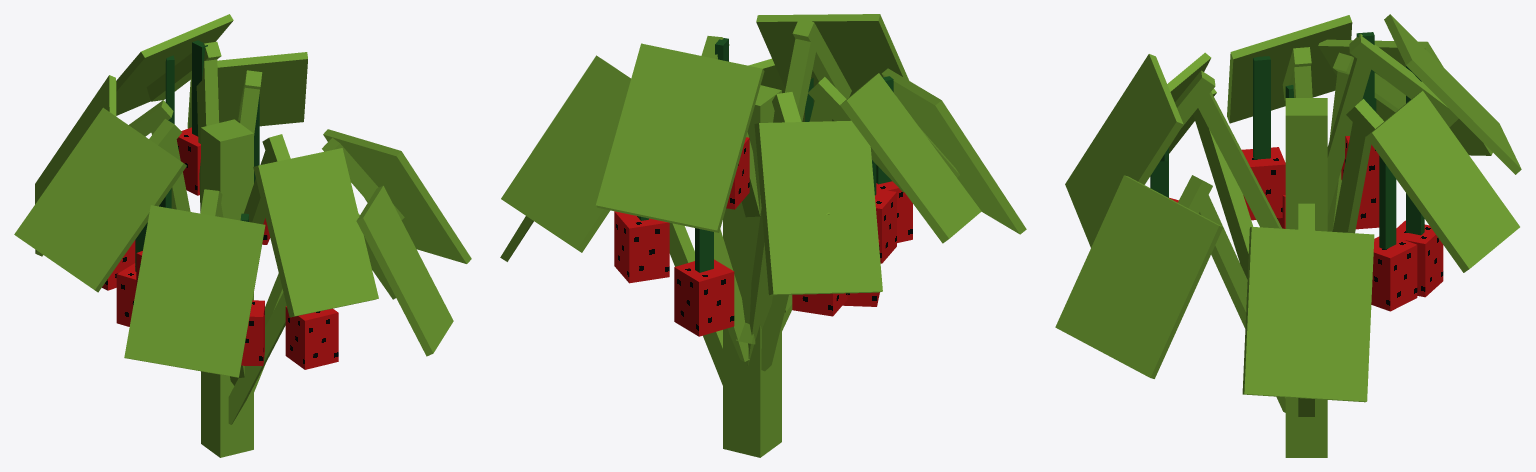
The model's file is strawberry.gltf.
3 renders of one model, left to right at view 1: azimuth 30°, elevation 25°; view 2: azimuth 150°, elevation 25°; view 3: azimuth 270°, elevation 25°, orthographic. The views are drawn at different scales.
Visible parts, largest first — view 1: 4eb561ee-e4ab-f76f-4e30-f11e09f7993e, 01a09829-e122-5b0a-20b8-aaecbee09f6f, 1283f4d3-97d6-82ff-80f4-b5056bac5149, 2f95a8cc-bbbc-db35-044c-f79740e91d66, 107a1ec4-873a-3dd9-ea2a-851498e77274, 7614471e-801d-6416-6c0a-157e09a08062, 6e3f350f-6a50-123f-cd92-09d51c40f884, e34a1770-09fc-274d-f716-8e8ee659045f, 59f5c063-296e-1b00-c2e3-74d31494afd2, 844b3f82-5d35-6af3-6514-d4ab7080cdb1, 47182c66-7792-879d-38dc-3051a974d201, bcb8a3a8-a71c-7ad1-5b28-aba474986b23 (+16 smaller); view 2: e34a1770-09fc-274d-f716-8e8ee659045f, 844b3f82-5d35-6af3-6514-d4ab7080cdb1, 6e3f350f-6a50-123f-cd92-09d51c40f884, 2f95a8cc-bbbc-db35-044c-f79740e91d66, 01a09829-e122-5b0a-20b8-aaecbee09f6f, 1283f4d3-97d6-82ff-80f4-b5056bac5149, 4eb561ee-e4ab-f76f-4e30-f11e09f7993e, ded39501-2ed6-5f5a-d195-4bb4b63243e9, c4523ee2-c674-16ea-1b8a-9a30603bd5ba, 2f9154d7-f499-ddac-d801-9aa744a33ea9, b368f5a6-8e91-1b1e-d029-e5eeac68e0c4, 2e053b5a-d234-0e95-985d-900e99bb19cc (+12 smaller); view 3: 7614471e-801d-6416-6c0a-157e09a08062, 107a1ec4-873a-3dd9-ea2a-851498e77274, 6e3f350f-6a50-123f-cd92-09d51c40f884, 1283f4d3-97d6-82ff-80f4-b5056bac5149, 2f95a8cc-bbbc-db35-044c-f79740e91d66, 01a09829-e122-5b0a-20b8-aaecbee09f6f, e34a1770-09fc-274d-f716-8e8ee659045f, b368f5a6-8e91-1b1e-d029-e5eeac68e0c4, c4523ee2-c674-16ea-1b8a-9a30603bd5ba, a3246267-8480-f19f-3fdd-6ae84c42bdb2, aafc843f-876d-b792-6ff0-667202e4fc5c, bcb8a3a8-a71c-7ad1-5b28-aba474986b23 (+20 smaller).
Part boxes in pixels (x1,y1,x2,y2): 4eb561ee-e4ab-f76f-4e30-f11e09f7993e: [124, 205, 265, 377]; 01a09829-e122-5b0a-20b8-aaecbee09f6f: [14, 107, 186, 292]; 1283f4d3-97d6-82ff-80f4-b5056bac5149: [253, 148, 378, 317]; 2f95a8cc-bbbc-db35-044c-f79740e91d66: [201, 119, 253, 457]; 107a1ec4-873a-3dd9-ea2a-851498e77274: [356, 185, 453, 356]; 7614471e-801d-6416-6c0a-157e09a08062: [323, 129, 471, 263]; 6e3f350f-6a50-123f-cd92-09d51c40f884: [187, 52, 307, 128]; e34a1770-09fc-274d-f716-8e8ee659045f: [116, 14, 233, 115]; 59f5c063-296e-1b00-c2e3-74d31494afd2: [285, 306, 338, 369]; 844b3f82-5d35-6af3-6514-d4ab7080cdb1: [35, 75, 116, 256]; 47182c66-7792-879d-38dc-3051a974d201: [228, 292, 286, 424]; bcb8a3a8-a71c-7ad1-5b28-aba474986b23: [196, 59, 219, 212]; e34a1770-09fc-274d-f716-8e8ee659045f: [596, 43, 764, 232]; 844b3f82-5d35-6af3-6514-d4ab7080cdb1: [754, 120, 882, 295]; 6e3f350f-6a50-123f-cd92-09d51c40f884: [501, 55, 630, 252]; 2f95a8cc-bbbc-db35-044c-f79740e91d66: [723, 85, 781, 457]; 01a09829-e122-5b0a-20b8-aaecbee09f6f: [840, 73, 981, 243]; 1283f4d3-97d6-82ff-80f4-b5056bac5149: [756, 14, 908, 121]; 4eb561ee-e4ab-f76f-4e30-f11e09f7993e: [881, 68, 1026, 234]; ded39501-2ed6-5f5a-d195-4bb4b63243e9: [674, 259, 734, 336]; c4523ee2-c674-16ea-1b8a-9a30603bd5ba: [614, 211, 669, 283]; 2f9154d7-f499-ddac-d801-9aa744a33ea9: [747, 110, 780, 366]; b368f5a6-8e91-1b1e-d029-e5eeac68e0c4: [736, 38, 818, 344]; 2e053b5a-d234-0e95-985d-900e99bb19cc: [792, 19, 851, 98]; 7614471e-801d-6416-6c0a-157e09a08062: [1242, 227, 1374, 402]; 107a1ec4-873a-3dd9-ea2a-851498e77274: [1055, 175, 1223, 378]; 6e3f350f-6a50-123f-cd92-09d51c40f884: [1366, 91, 1519, 272]; 1283f4d3-97d6-82ff-80f4-b5056bac5149: [1065, 54, 1183, 247]; 2f95a8cc-bbbc-db35-044c-f79740e91d66: [1285, 98, 1327, 457]; 01a09829-e122-5b0a-20b8-aaecbee09f6f: [1227, 15, 1352, 123]; e34a1770-09fc-274d-f716-8e8ee659045f: [1384, 14, 1521, 174]; b368f5a6-8e91-1b1e-d029-e5eeac68e0c4: [1193, 92, 1282, 228]; c4523ee2-c674-16ea-1b8a-9a30603bd5ba: [1371, 236, 1417, 311]; a3246267-8480-f19f-3fdd-6ae84c42bdb2: [1193, 108, 1253, 279]; aafc843f-876d-b792-6ff0-667202e4fc5c: [1332, 122, 1371, 233]; bcb8a3a8-a71c-7ad1-5b28-aba474986b23: [1327, 57, 1372, 215].
Size of the model in its own units: 0.7647 by 0.6842 by 0.6946.
3 materials, 3 textured.
